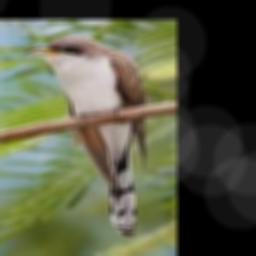Cuckoo: (25, 36, 148, 237)
